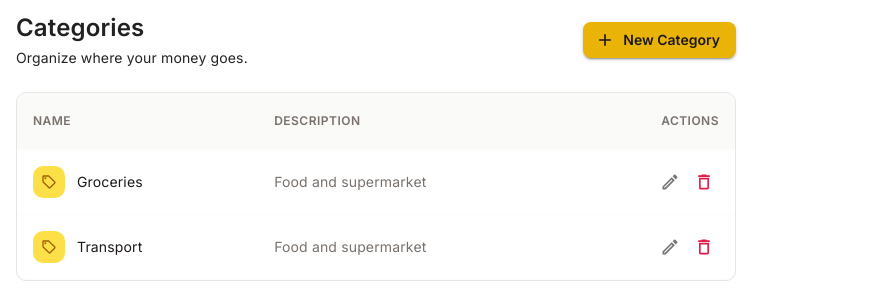
Test: Categories page › deletes the category once confirmed and refreshes the list
Click the 3rd button at [704, 182], box x1=689 y1=167 x2=719 y2=197
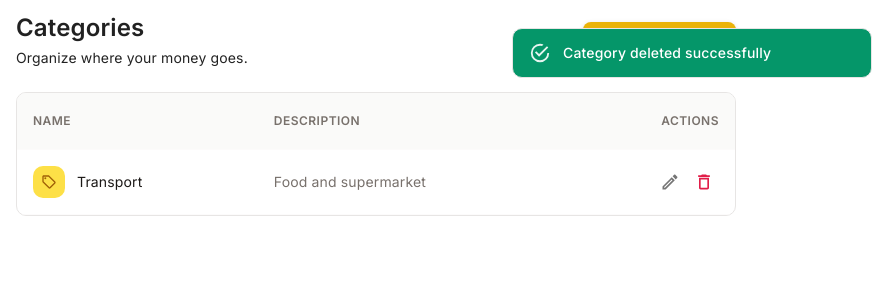
Check: the text "Transport" is shown, box x1=77 y1=172 x2=142 y2=192
Check: the text "Groceries" is gone
